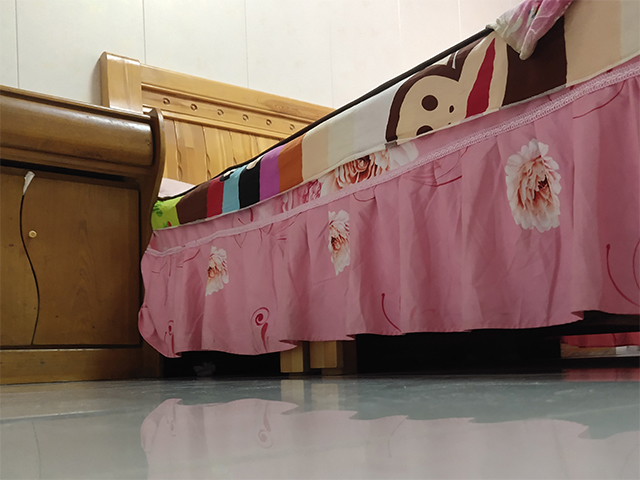bed: (97, 1, 640, 379)
cabinet: (1, 83, 169, 382)
